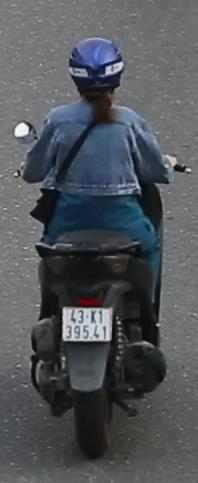LP: (60, 302, 114, 345)
helmet: (67, 33, 125, 106)
